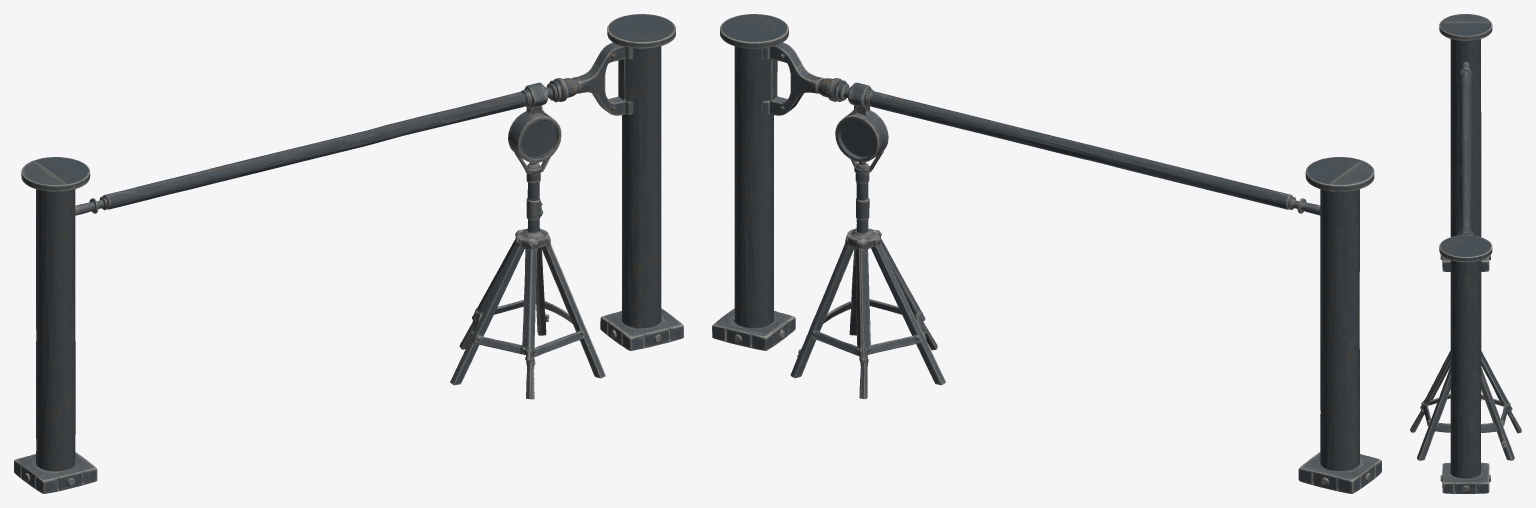
Rendered from checkpoint_boom_barrier.glb.
3 views of the same model, side by side, from view 1: azimuth 30°, elevation 25°; view 2: azimuth 150°, elevation 25°; view 3: azimuth 270°, elevation 25° (orthographic). The views are drawn at different scales.
Bounding box in the file's own units: 1.9 × 0.875 × 0.368.
1 material, 1 textured.
